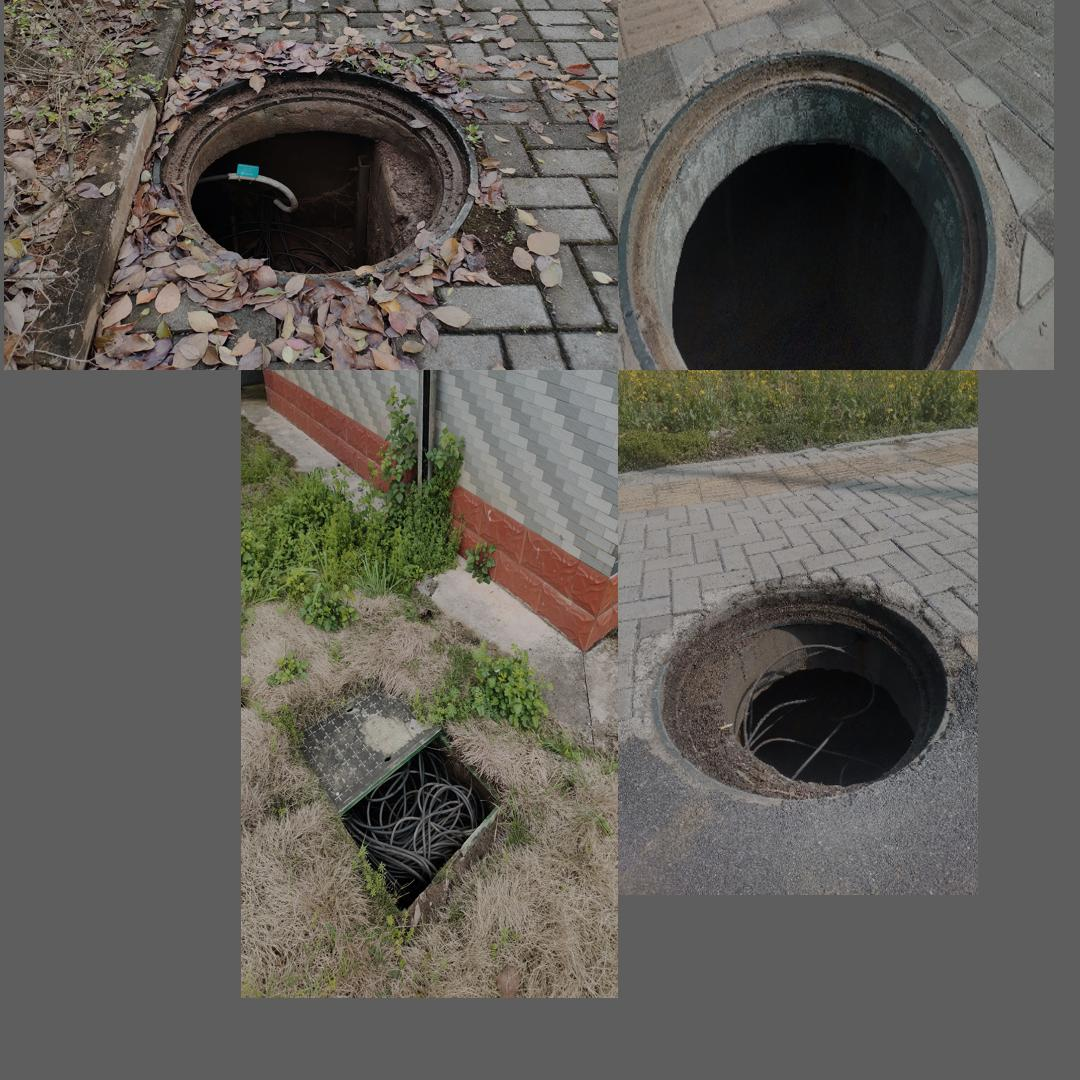lose: (618, 48, 993, 365), (160, 63, 471, 281), (650, 585, 950, 801), (337, 727, 503, 914)
